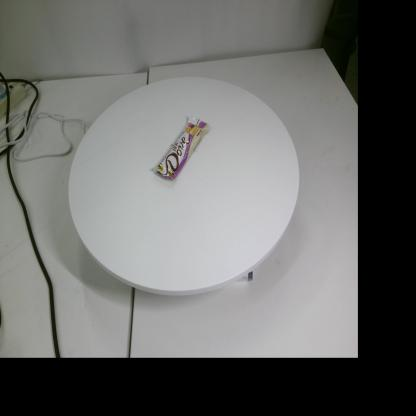Chocolate: (152, 115, 210, 180)
